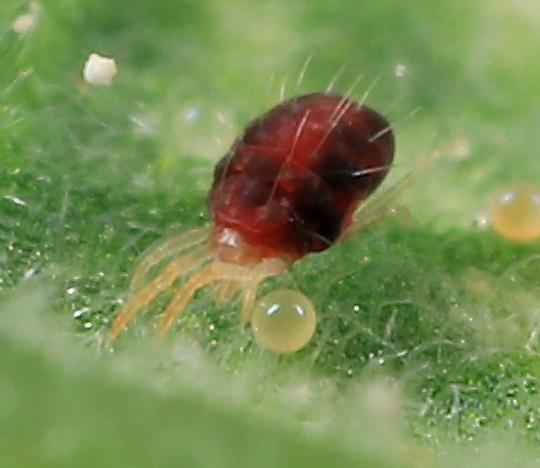tiny_pests: (49, 35, 493, 409)
